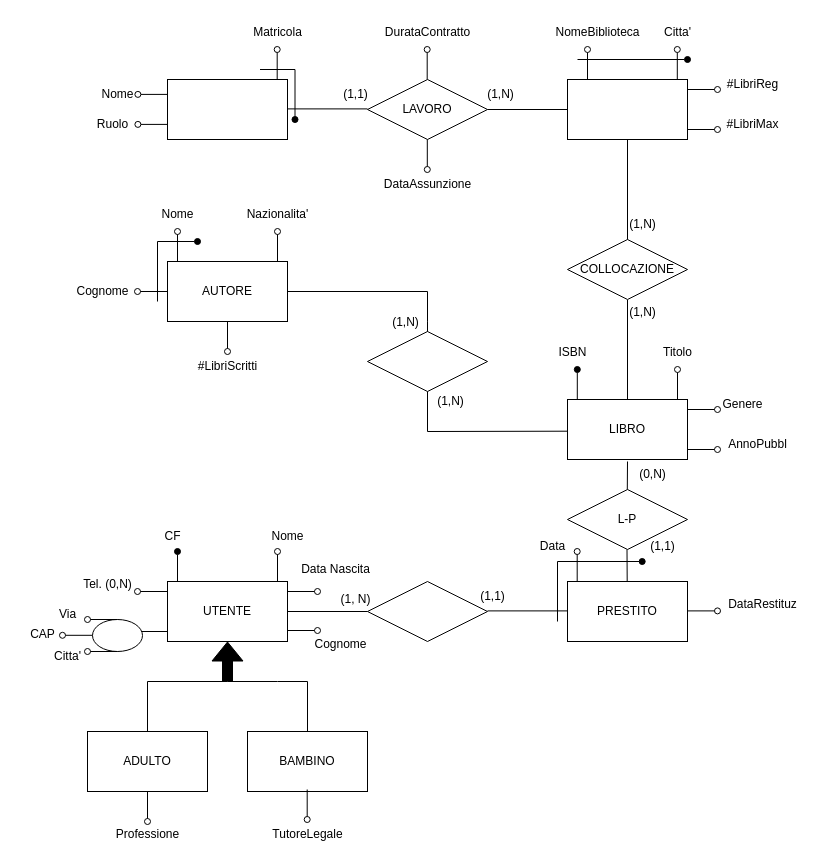
Some shapes in this 824 by 866 pixel diagram are drawn without their labels. Each missing label, with the box of its shape:
BIBLIOTECA: (566, 78, 688, 140)
BIBLIOTECARIO: (166, 78, 288, 140)
Indirizzo: (92, 618, 142, 652)
SCRITTURA: (366, 330, 488, 392)
U-P: (366, 580, 488, 642)
